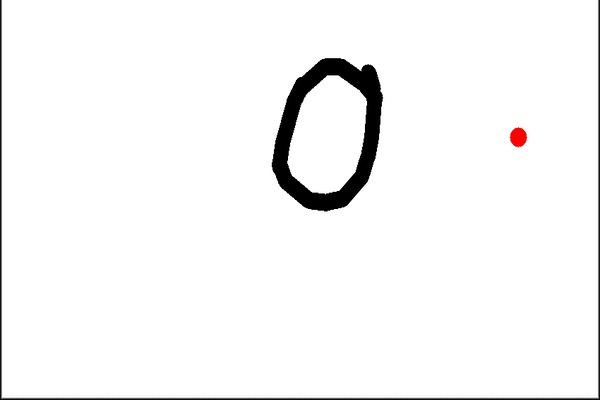O: (259, 47, 393, 214)
